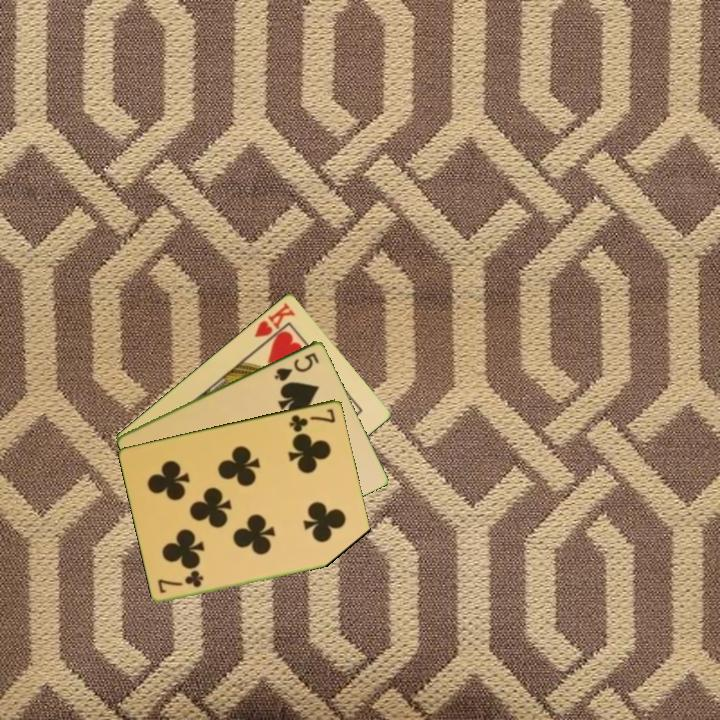5s: (271, 348, 322, 384)
7c: (286, 405, 339, 434), (155, 568, 206, 596)
Kh: (250, 299, 298, 349)
